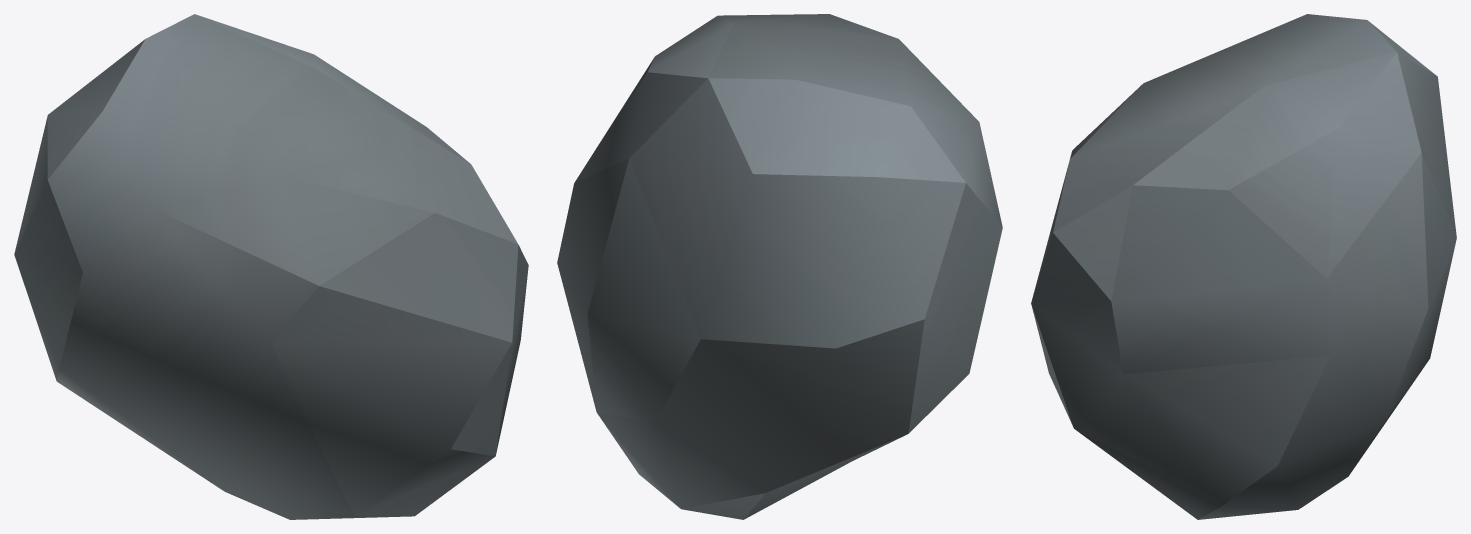
File: Rock_3_C_Color1.gltf
The picture shows the model from 3 angles, left to right: view 1: azimuth 30°, elevation 25°; view 2: azimuth 150°, elevation 25°; view 3: azimuth 270°, elevation 25°; orthographic projection. The views are drawn at different scales.
Parts seen in each view (by area): view 1: Rock_3_C_Color1; view 2: Rock_3_C_Color1; view 3: Rock_3_C_Color1.
Part boxes in pixels (left/top/right/bottom): Rock_3_C_Color1: left=14, top=14, right=528, bottom=519; Rock_3_C_Color1: left=557, top=14, right=1002, bottom=519; Rock_3_C_Color1: left=1031, top=14, right=1456, bottom=519.
Bounding box in the file's own units: 0.8051 × 0.9676 × 0.8596.
1 material, 1 textured.
